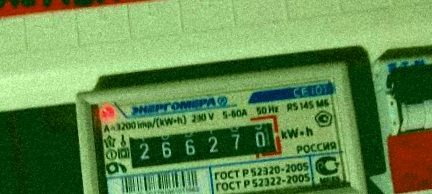0: (252, 128, 265, 149)
2: (135, 139, 152, 161), (205, 133, 219, 154)
6: (158, 139, 173, 160), (182, 136, 196, 156)
7: (228, 131, 242, 151)
screen: (113, 106, 292, 182)
